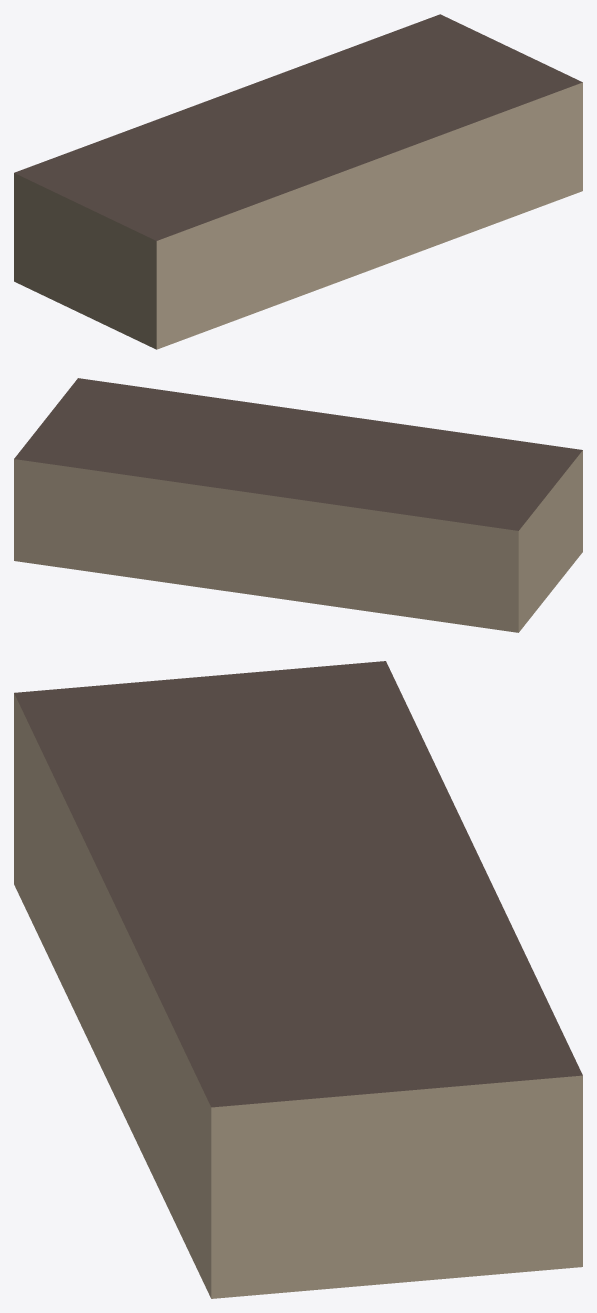
3 views of the same model, one above another, from view 1: azimuth 30°, elevation 25°; view 2: azimuth 150°, elevation 25°; view 3: azimuth 270°, elevation 25° (orthographic). The views are drawn at different scales.
Visible parts, largest first — view 1: HP-w859488722; view 2: HP-w859488722; view 3: HP-w859488722.
Boxes of the visible parts, left/top/right/bottom form: HP-w859488722: left=14, top=14, right=582, bottom=349; HP-w859488722: left=14, top=378, right=582, bottom=632; HP-w859488722: left=14, top=661, right=582, bottom=1298.
Size of the model in its own units: 45 by 9 by 24.24.
